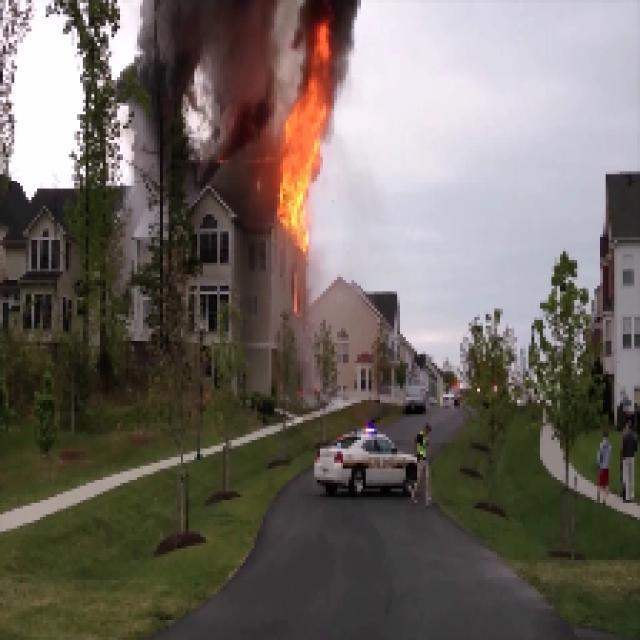Fire: (274, 88, 340, 234)
Smoke: (138, 5, 270, 154)
